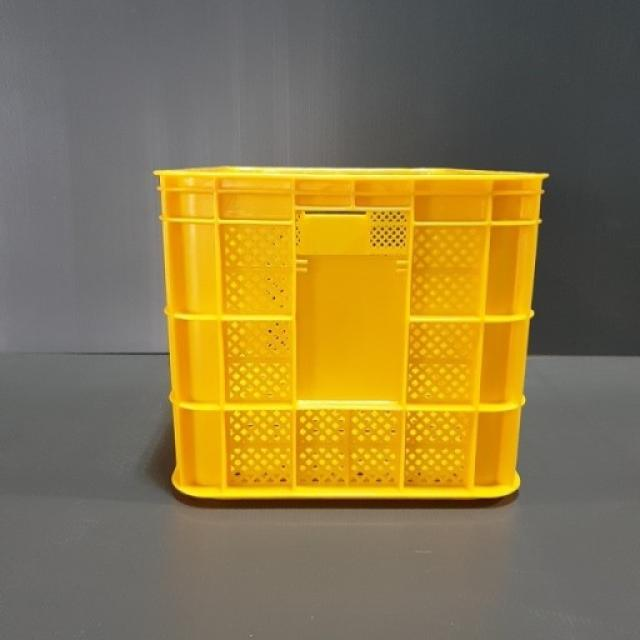basket: (156, 168, 546, 500)
